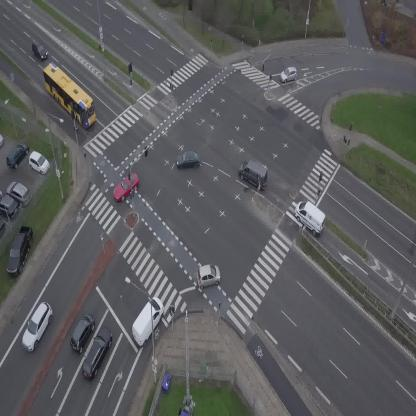bus: (34, 60, 105, 131)
car: (77, 325, 117, 383), (16, 300, 58, 353), (65, 311, 100, 355), (108, 171, 144, 204), (193, 261, 224, 290), (28, 39, 50, 63), (176, 150, 201, 168), (279, 66, 298, 83)
lorry: (125, 293, 169, 348), (289, 196, 332, 238), (234, 156, 275, 194)
